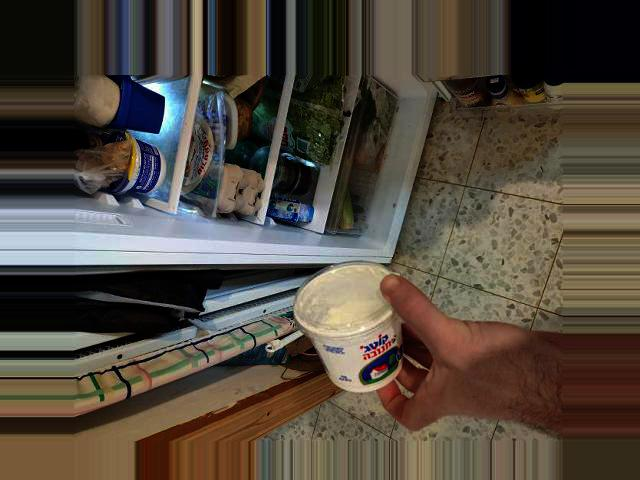cotage: (283, 278, 403, 378)
